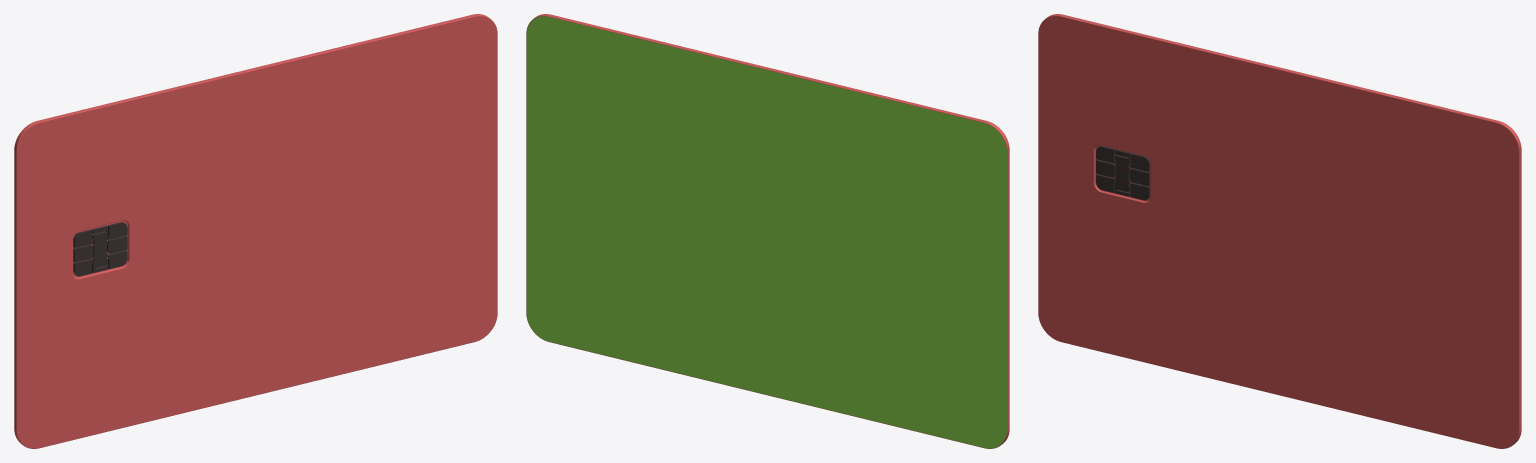
Rendered from card_chip3.glb.
3 renders of one model, left to right at view 1: azimuth 30°, elevation 25°; view 2: azimuth 150°, elevation 25°; view 3: azimuth 330°, elevation 25°, orthographic.
Visible parts, largest first — view 1: card_chip_extrude_3, Extruded.025; view 2: card_chip_extrude_3; view 3: card_chip_extrude_3, Extruded.025.
Boxes of the visible parts, box(x1,y1,x2,y2) form: card_chip_extrude_3: box(14, 14, 497, 448); Extruded.025: box(73, 222, 127, 276); card_chip_extrude_3: box(526, 14, 1009, 448); card_chip_extrude_3: box(1038, 14, 1521, 448); Extruded.025: box(1096, 146, 1150, 200).
Size of the model in its own units: 8.5 by 5.5 by 0.0763.
